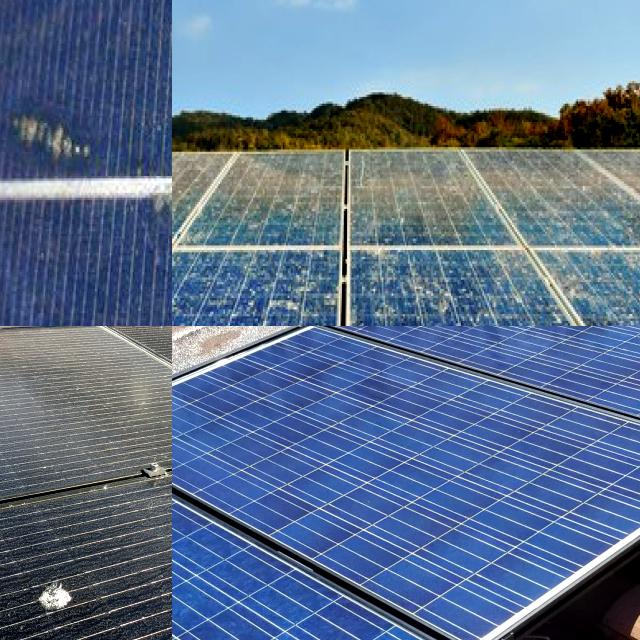bird: (16, 560, 86, 640)
crack: (302, 340, 538, 557), (477, 326, 569, 372), (172, 616, 300, 640)
shadow: (0, 86, 108, 182), (0, 0, 26, 130)
